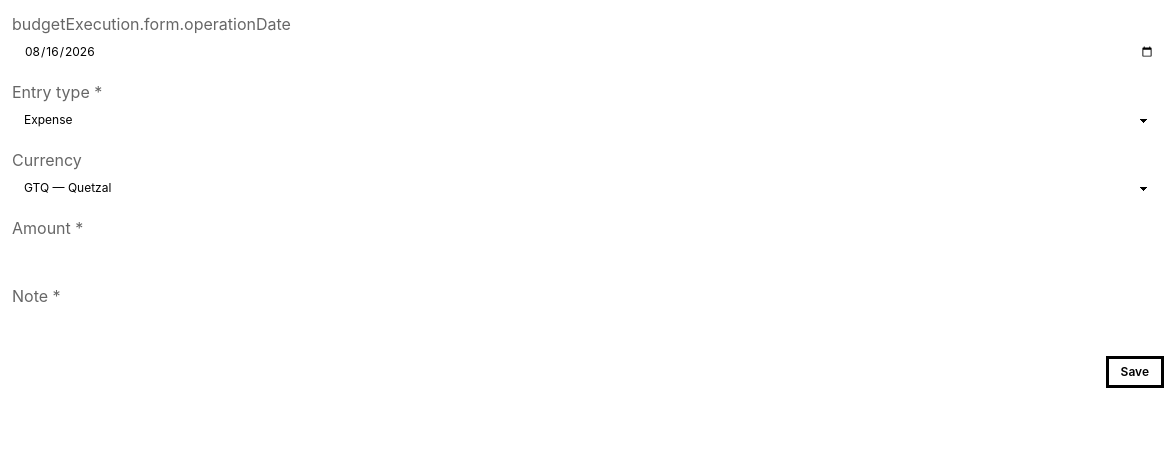
Test case: ExecutionRecordForm.vue › blocks submit when amount is empty
This screenshot has width=1176, height=453.
Note: Do not fill in amount
Click the button "Save". click: click(1135, 372)
box: [1106,356,1164,388]
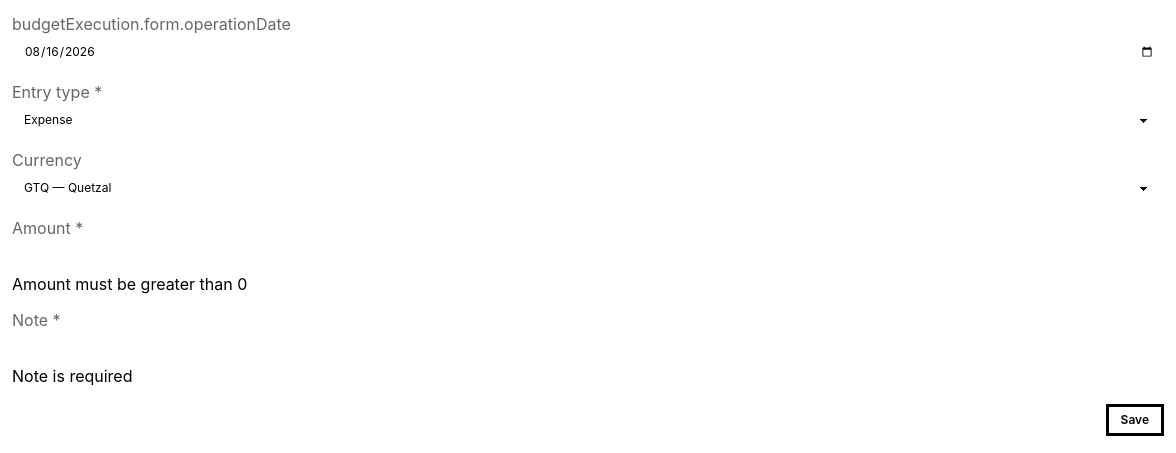
Expected: the text "Amount must be greater than 0" is shown, [12,274,247,294]
